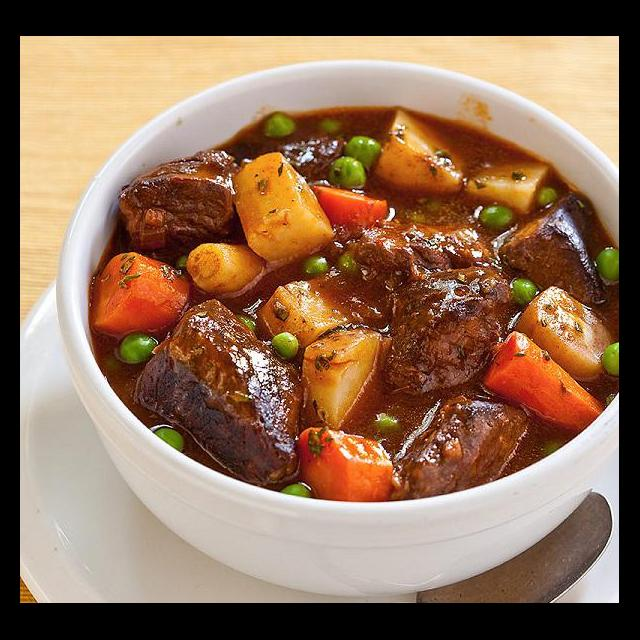thit bo: (128, 296, 330, 492), (382, 262, 536, 398), (378, 386, 538, 510), (110, 144, 250, 270), (496, 188, 614, 314), (346, 214, 506, 302)
